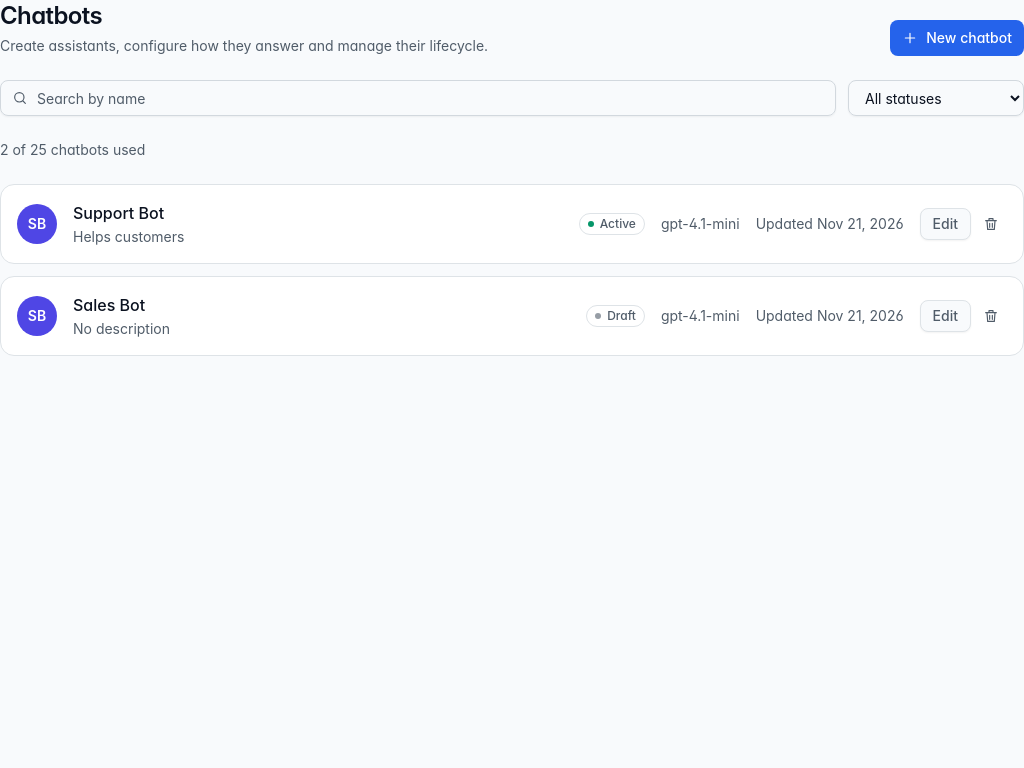
Test: ChatbotList › deletes only after confirmation and announces the result
Expected: the list named "Chatbots" is shown, [0,184,1023,356]
Click the button named "Delete Sales Bot": x=991, y=316 [975,300,1007,332]
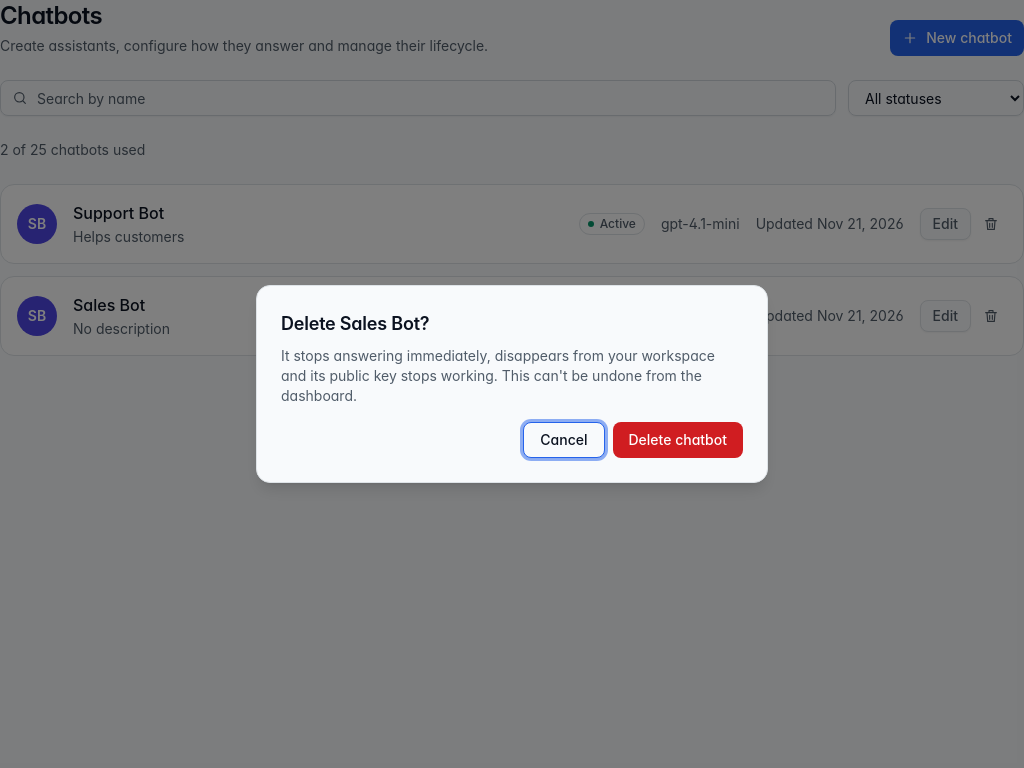
Click the button "Cancel": x=564, y=440 [523,422,604,458]
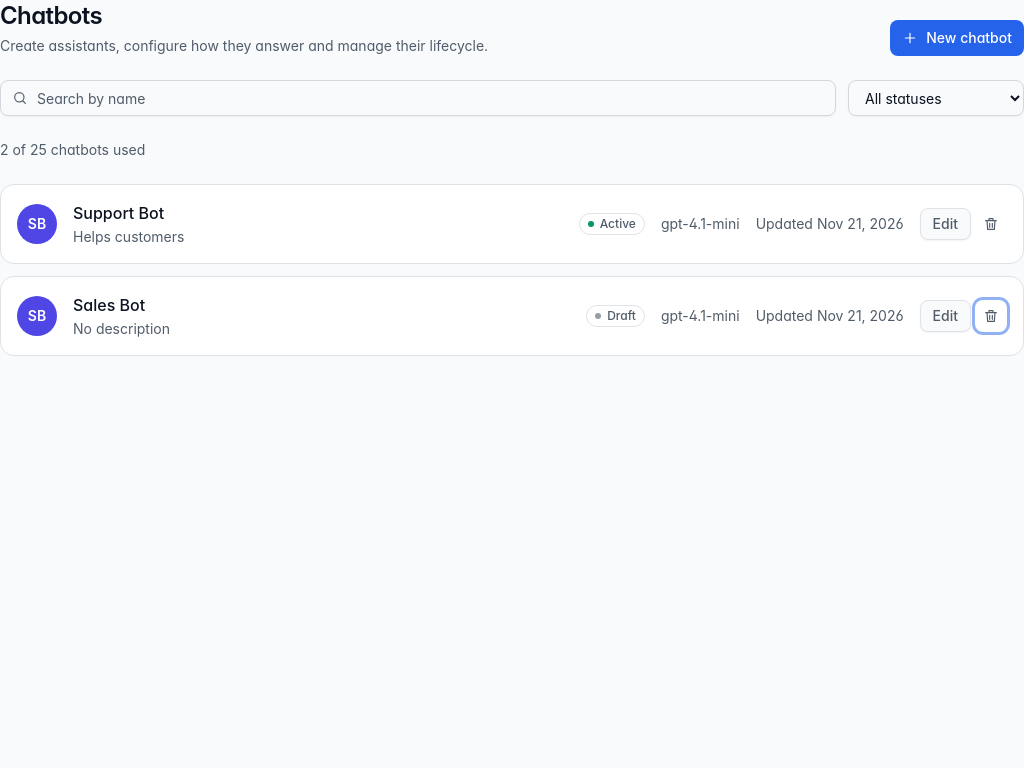
Click the button named "Delete Sales Bot": x=991, y=316 [975,300,1007,332]
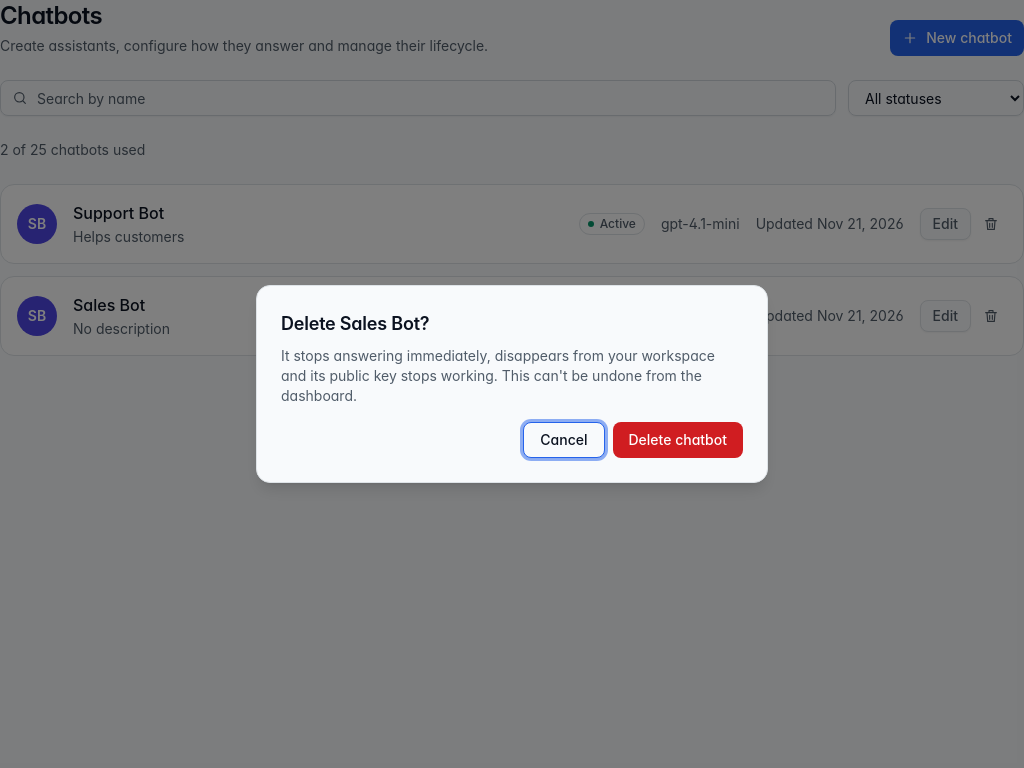
Click the button "Delete chatbot": x=678, y=440 [612,422,743,458]
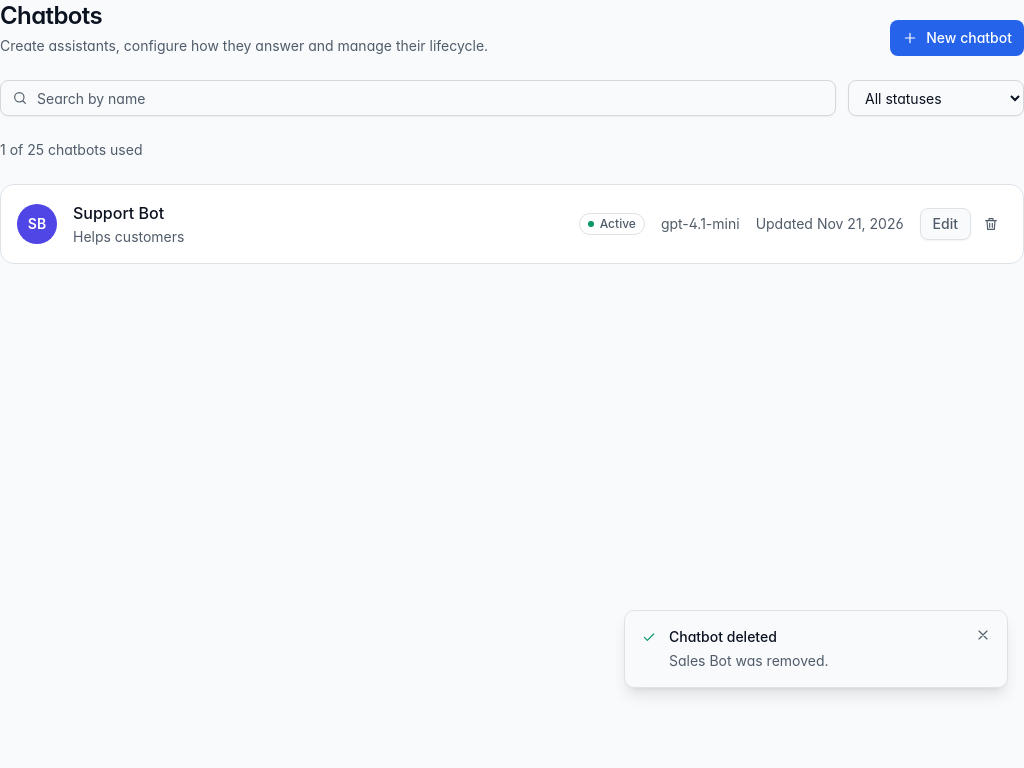
Expected: the text "Chatbot deleted" is shown, [669,628,777,645]
